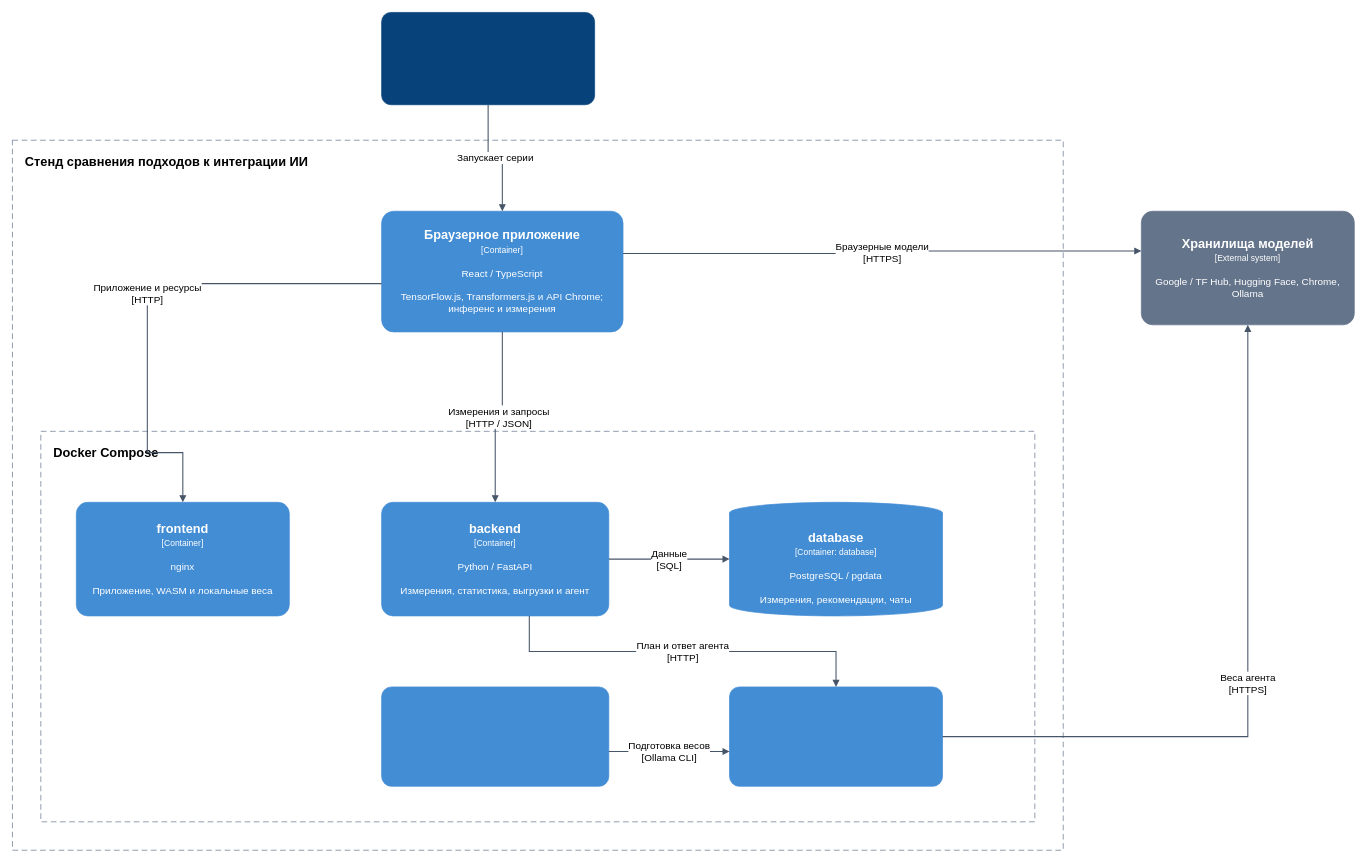
This 1367x863 diagram has some shape labels left out. The centre of each missing label's shape, as x and y in pixels:
llm [Container] Ollama / qwen3.5:4b Модель агента; веса в томе ollama: the point at 836,736
llm-bootstrap [Container] bootstrap.sh Подготовка модели агента: the point at 495,736
Исследователь [Person] Входы и параметры серий: the point at 488,58
